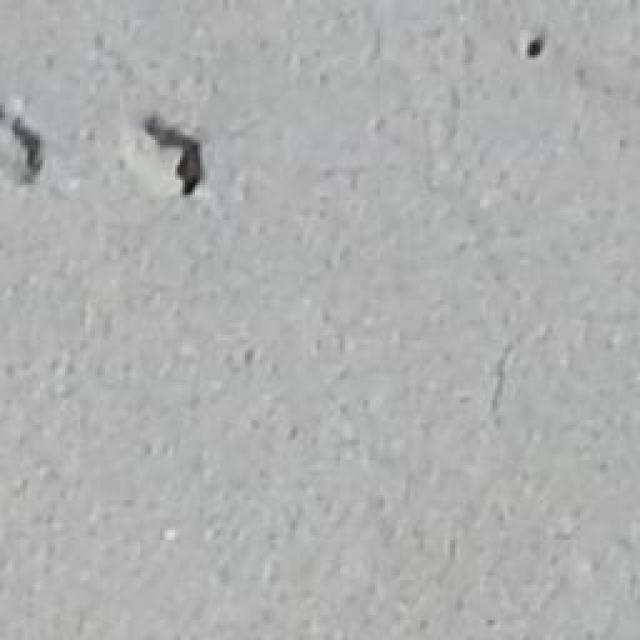concrete-crack: (148, 118, 202, 195), (2, 100, 45, 185), (527, 36, 549, 63)
